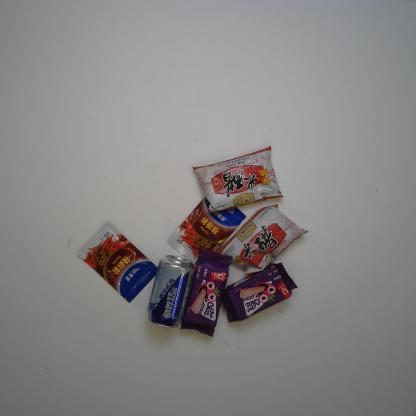Alcohol: (146, 254, 196, 330)
Dessert: (220, 262, 300, 324), (180, 248, 234, 338)
Seasoner: (73, 220, 159, 305), (213, 202, 309, 276), (191, 144, 284, 214), (165, 188, 247, 267)
